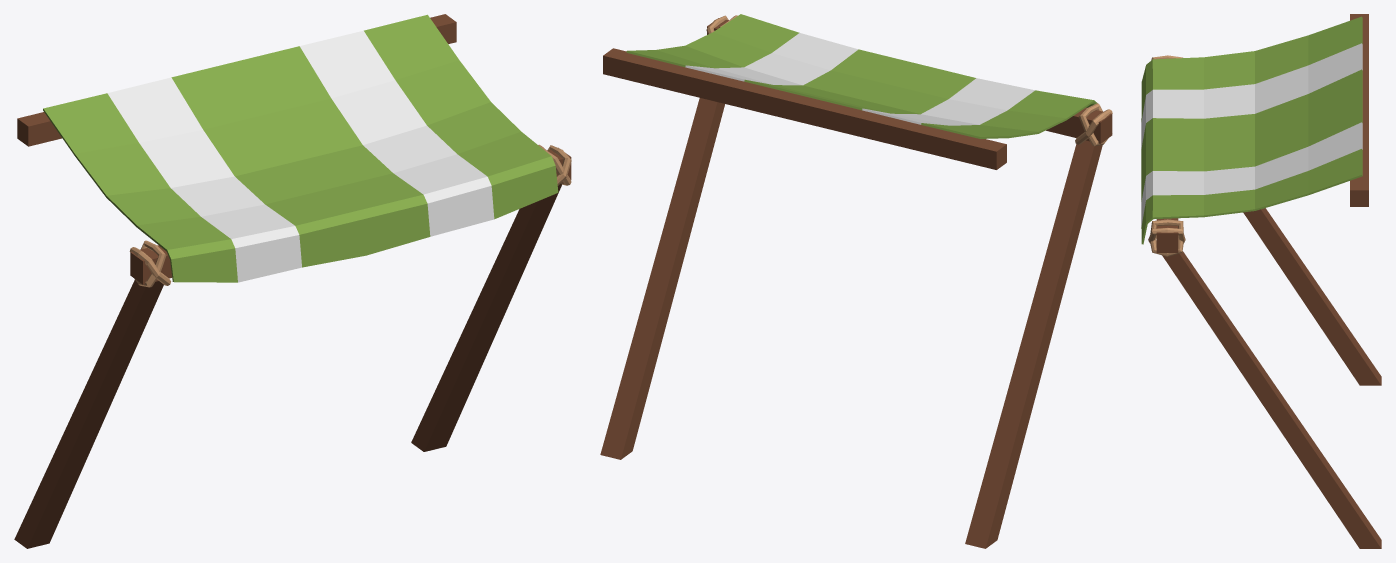
File: Tent_06.fbx
3 views of the same model, side by side, from view 1: azimuth 30°, elevation 25°; view 2: azimuth 150°, elevation 25°; view 3: azimuth 270°, elevation 25° (orthographic). The views are drawn at different scales.
Parts seen in each view (by area): view 1: Tent_06; view 2: Tent_06; view 3: Tent_06.
Part boxes in pixels (<box>): Tent_06: <box>14,14,571,548</box>; Tent_06: <box>600,14,1112,548</box>; Tent_06: <box>1141,14,1381,548</box>.
Bounding box in the file's own units: 120 × 116 × 68.99.
